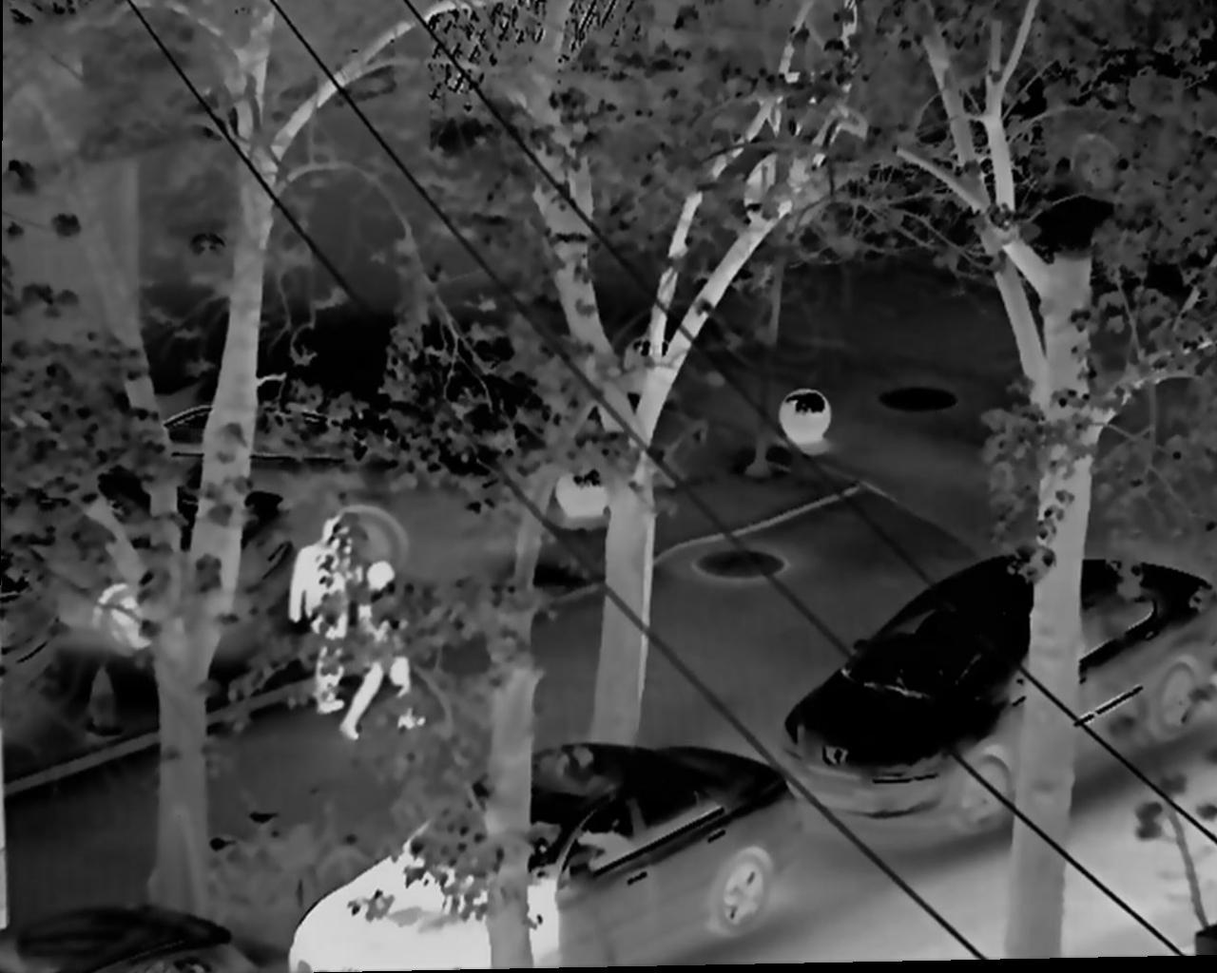person: (338, 562, 435, 755), (292, 508, 358, 711)
